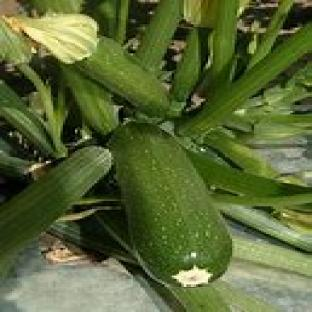Zucchini: (112, 122, 232, 286), (75, 37, 169, 117)
